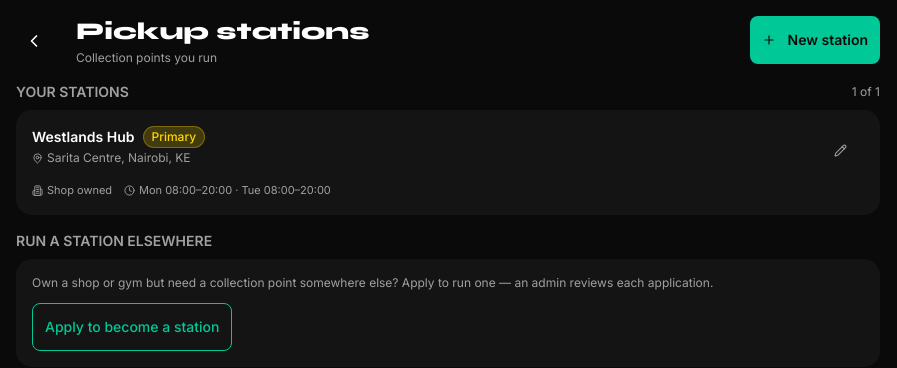
Test: StationManage — create, edit and apply › applies to become a station and surfaces the pending approval status
expect the text "Westlands Hub" is shown: met, box [32, 127, 134, 147]
Click the button "Apply to become a station".
click(132, 326)  # box [32, 302, 232, 350]
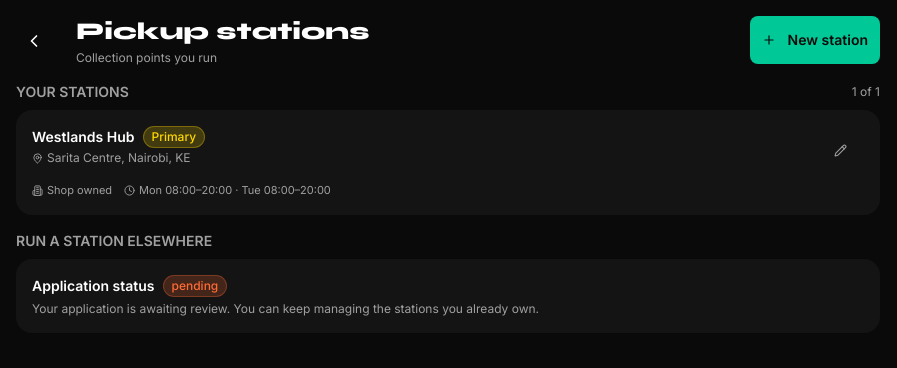
expect the text "Application status" is shown: met, box [32, 276, 154, 296]
expect the text "pending" is shown: met, box [162, 274, 227, 296]
expect the text "awaiting review" is shown: met, box [32, 300, 539, 316]
